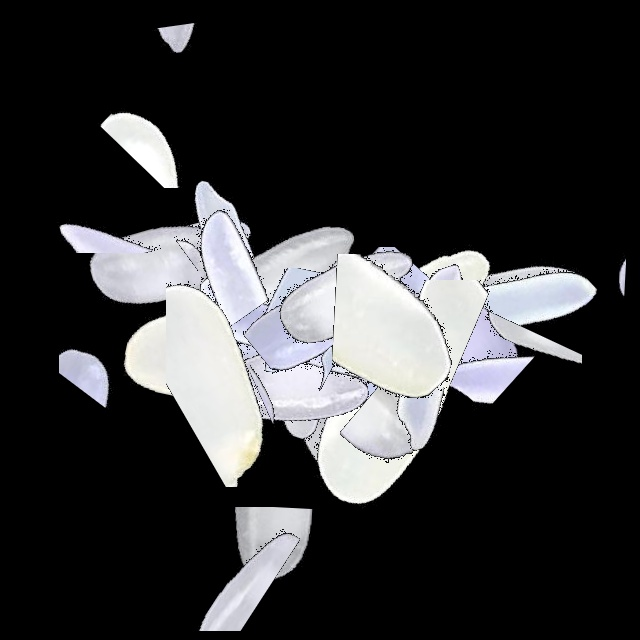Broken: (229, 204, 479, 367), (200, 225, 450, 387), (163, 268, 413, 428), (166, 237, 320, 487), (170, 268, 322, 518), (281, 254, 531, 399), (289, 270, 428, 520), (275, 292, 411, 542), (220, 217, 470, 351), (80, 502, 330, 631), (88, 195, 338, 324), (146, 507, 396, 634), (283, 385, 533, 508), (247, 247, 497, 369), (289, 232, 539, 351), (327, 263, 577, 379), (466, 266, 582, 516), (12, 144, 262, 253), (250, 182, 357, 432), (288, 280, 538, 387), (441, 201, 544, 451), (59, 223, 161, 473), (250, 236, 350, 486), (164, 187, 260, 437), (188, 212, 438, 307), (294, 216, 544, 310), (56, 103, 306, 188), (65, 23, 315, 107), (543, 136, 626, 386), (94, 188, 344, 271), (215, 264, 465, 341)
Full: (106, 230, 356, 480), (105, 206, 355, 456), (390, 174, 640, 424), (180, 233, 430, 483), (362, 191, 612, 441), (294, 205, 544, 455), (73, 135, 323, 385), (35, 141, 285, 391), (270, 206, 520, 456), (101, 129, 351, 379), (261, 286, 511, 536), (344, 212, 594, 462), (221, 191, 471, 441), (162, 153, 412, 403), (211, 219, 461, 469), (172, 258, 422, 508), (157, 215, 407, 465), (310, 233, 560, 483), (221, 173, 471, 423)
